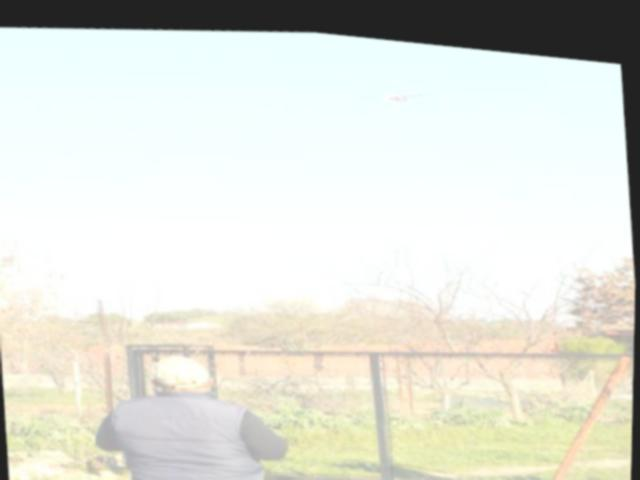iha: (356, 78, 430, 99)
